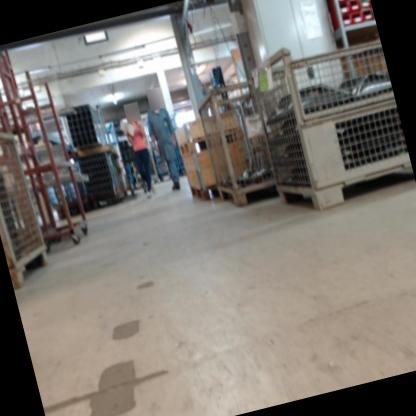pallet: (177, 126, 248, 160), (188, 177, 225, 207)
stillage: (239, 22, 416, 220), (184, 69, 282, 213), (0, 116, 58, 298)
